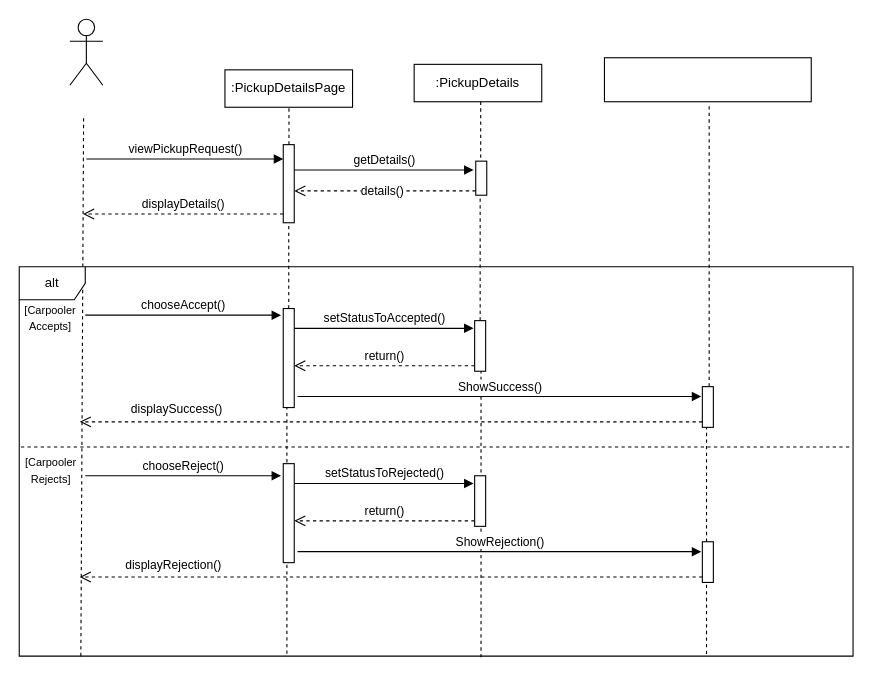
Image size: 873x678. Some labels were removed from this diagram. The centre of each missing label's shape, as x and y in pixels:
:AvailabilityNotificationsScreen: point (707, 79)
Carpooler: point (86, 51)
